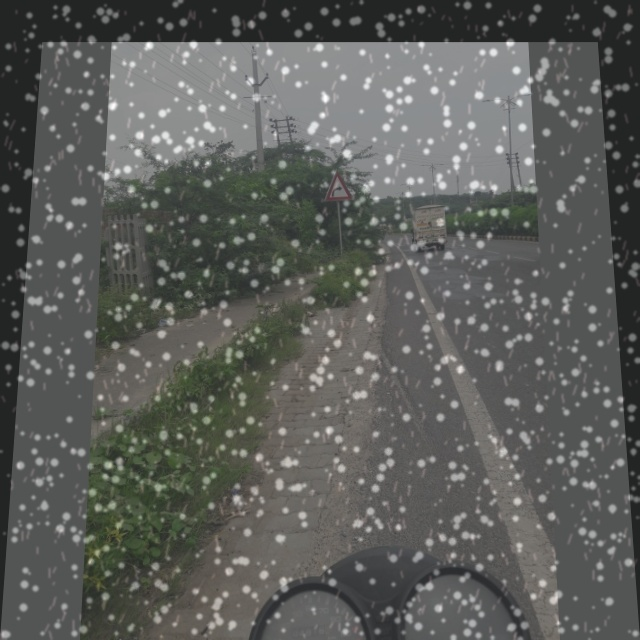Right_Hand_Curve: (321, 169, 356, 200)
